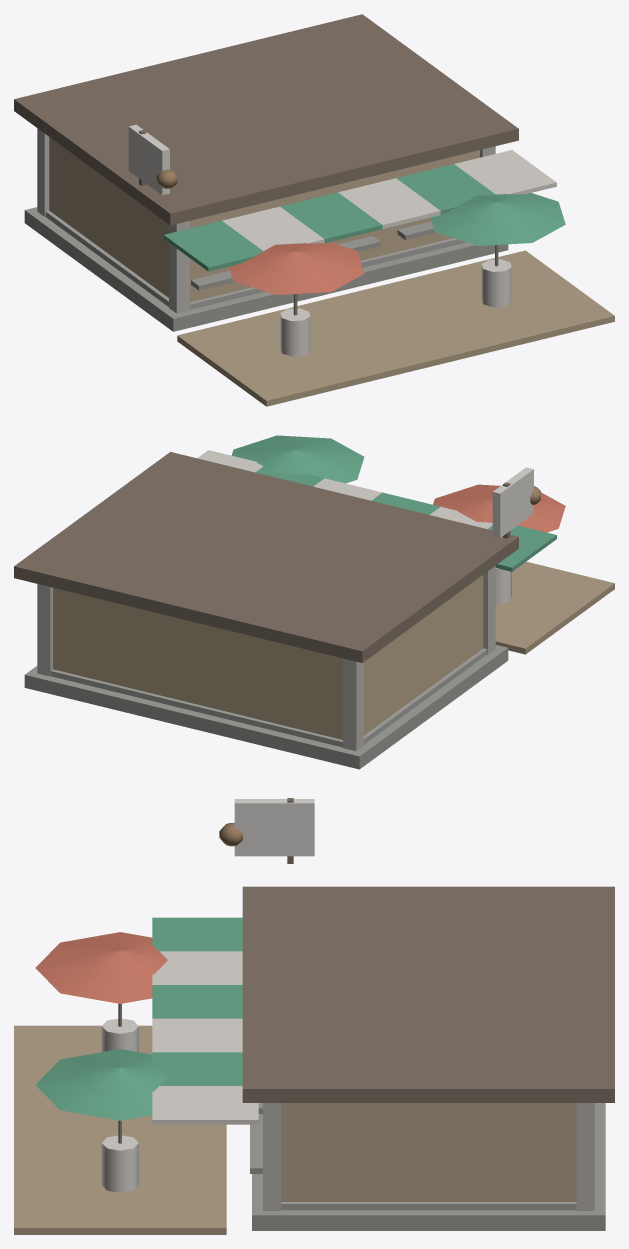
3 renders of one model, top to bottom at view 1: azimuth 30°, elevation 25°; view 2: azimuth 150°, elevation 25°; view 3: azimuth 270°, elevation 25°, orthographic. The views are drawn at different scales.
Parts seen in each view (by area): view 1: Visual; view 2: Visual; view 3: Visual.
Boxes of the visible parts, box(x1,y1,x2,y2) form: Visual: box(14, 14, 614, 406); Visual: box(14, 435, 614, 769); Visual: box(14, 798, 614, 1234).
Bounding box in the file's own units: 34.91 × 17.55 × 41.81.
